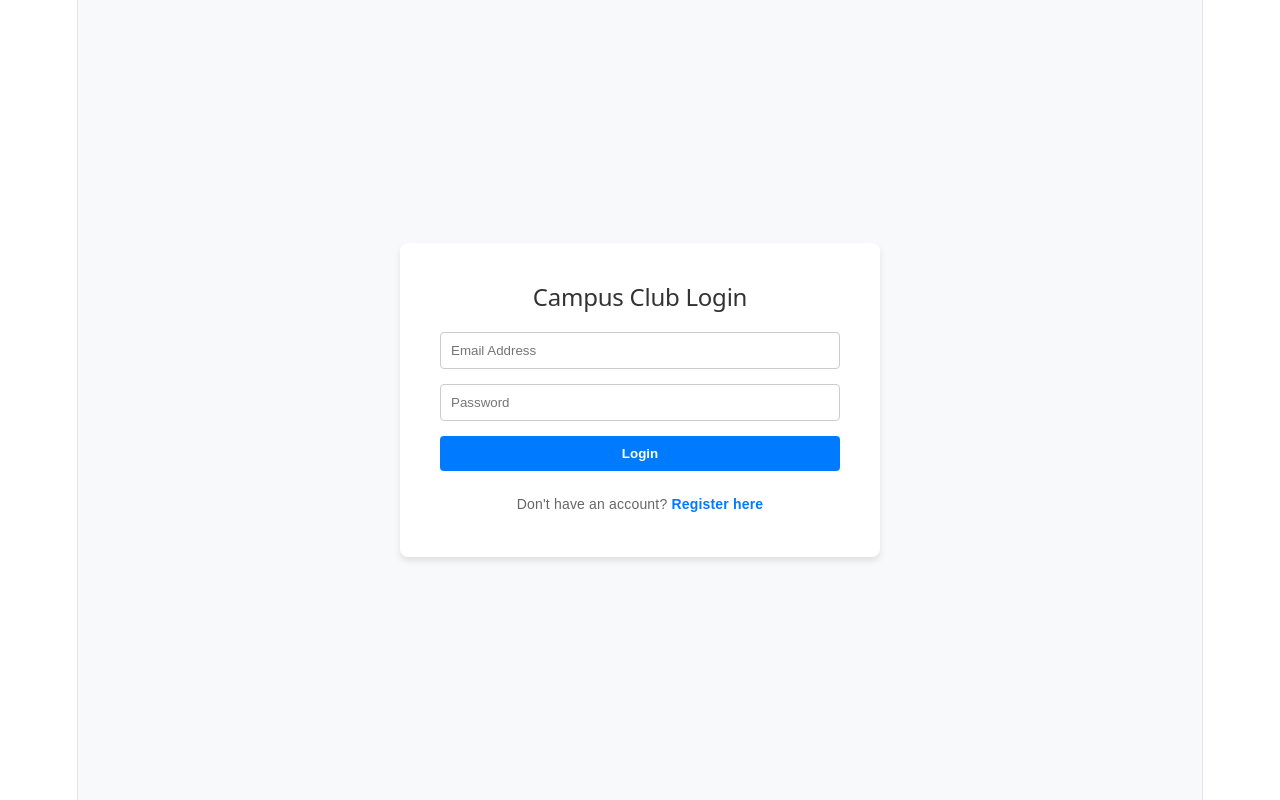
Scenario: Login component › renders login form by default and toggles to registration form when clicking Register here
Expected: the heading "Campus Club Login" is shown, [533, 280, 747, 313]
Expected: the field with placeholder "Full Name" is not shown
Click the text "Register here" at (717, 504), box [671, 496, 763, 512]
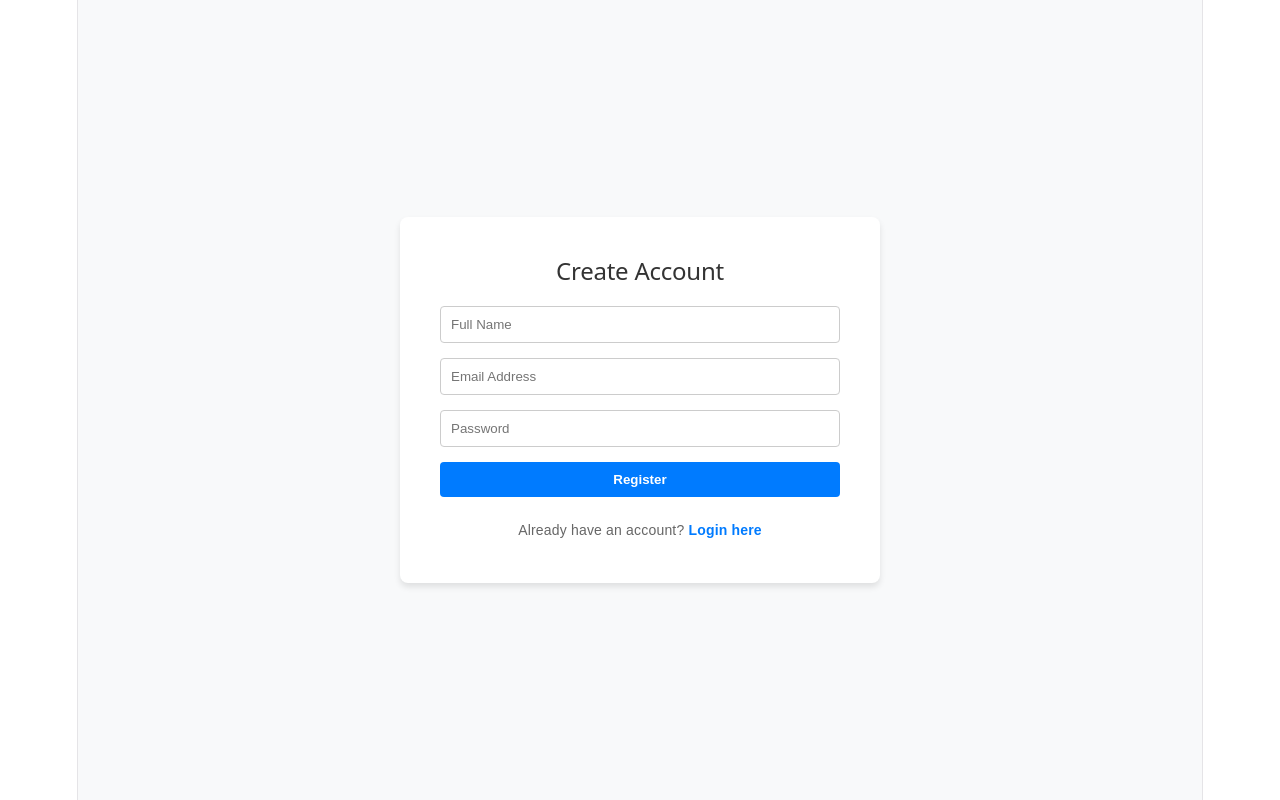
Expected: the heading "Create Account" is shown, [556, 254, 724, 287]
Expected: the field with placeholder "Full Name" is shown, [440, 306, 840, 343]
Expected: the button "Register" is shown, [440, 462, 840, 497]
